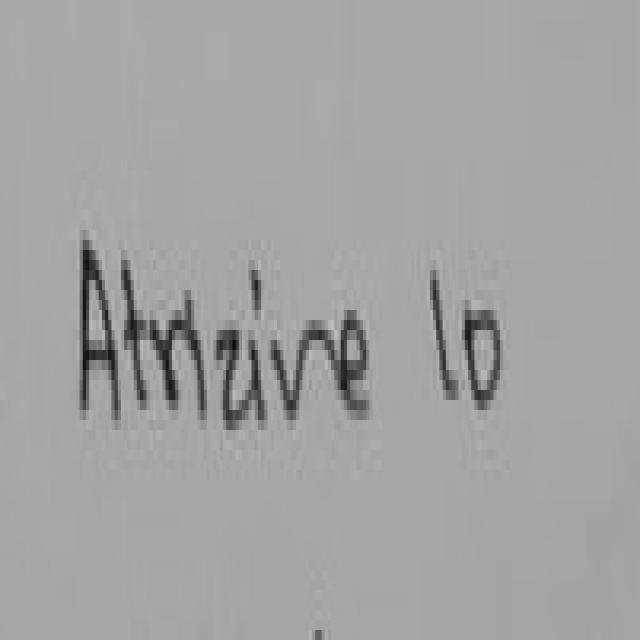0: (462, 260, 511, 454)
1: (421, 231, 464, 447)
A: (71, 217, 123, 454)
e: (336, 274, 376, 444)
i: (241, 230, 272, 440), (182, 276, 210, 434)
n: (262, 300, 340, 450)
r: (148, 279, 185, 437)
t: (120, 236, 152, 421)
z: (214, 312, 248, 441)
